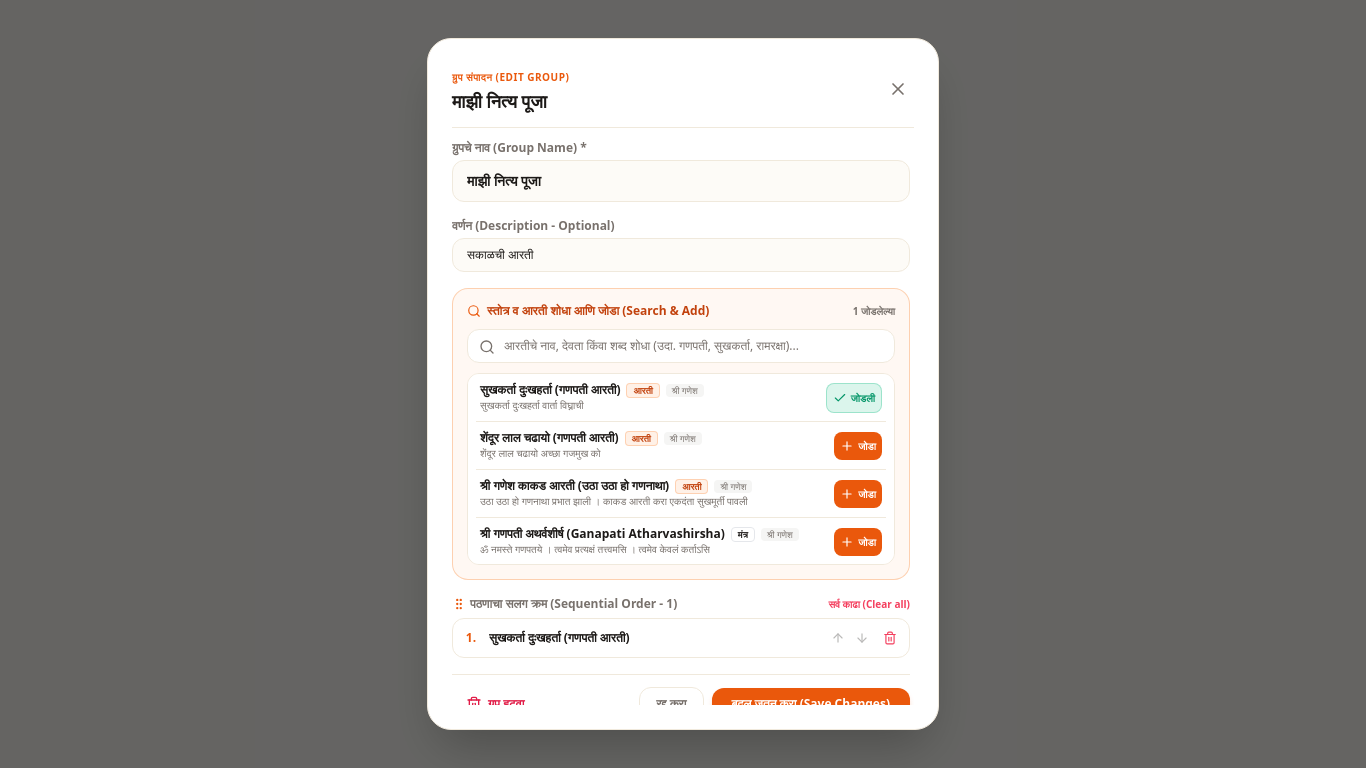
Test: GroupEditorModal › allows searching and adding aartis to the group
The image size is (1366, 768).
Search for aarti
Step 1. Replace the text in the field with placeholder "आरतीचे नाव, देवता किंवा शब्द शोधा" with "लवथवती" → (681, 346), box [467,329,895,363]
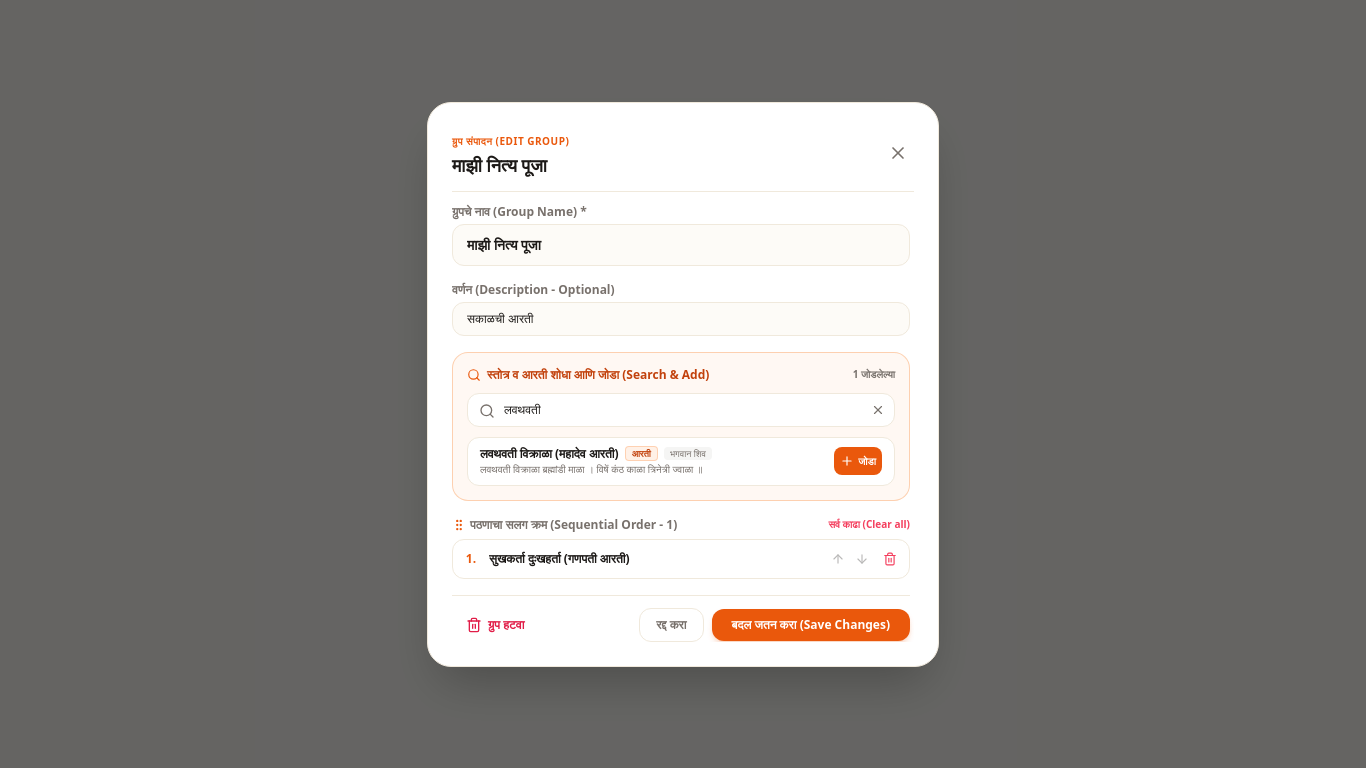
Expected: the text "लवथवती विक्राळा (महादेव आरती)" is shown, [480,446,619,462]
